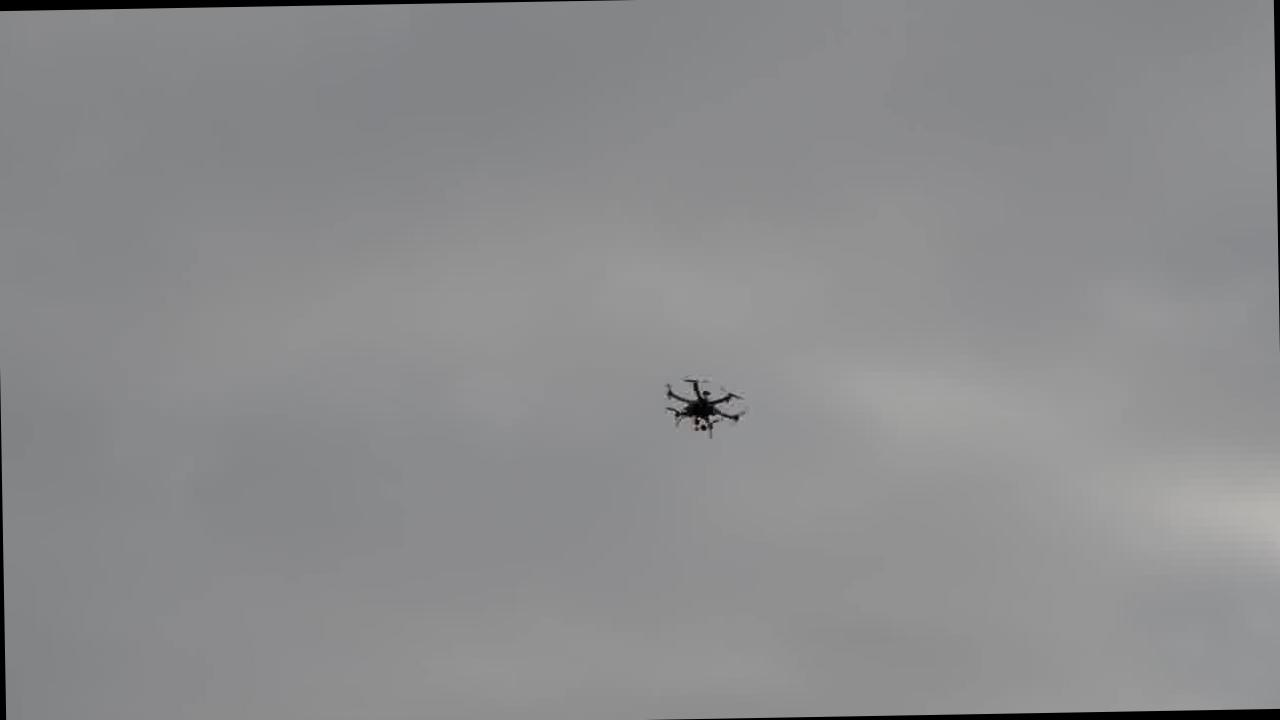drone: (660, 372, 744, 436)
